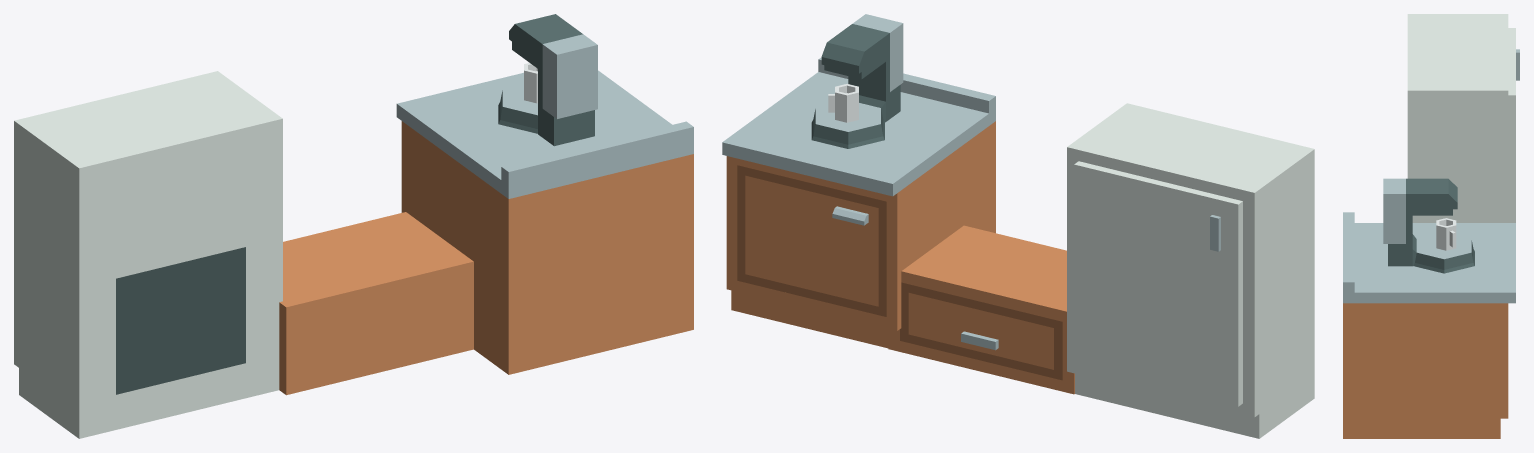
Rendered from 3KitchenObtsacleUpper.fbx.
3 renders of one model, left to right at view 1: azimuth 30°, elevation 25°; view 2: azimuth 150°, elevation 25°; view 3: azimuth 270°, elevation 25°, orthographic. The views are drawn at different scales.
Visible parts, largest first — view 1: kitchenFridgeSmall, kitchenCabinet, kitchenCabinetUpperLow, kitchenCoffeeMachine; view 2: kitchenFridgeSmall, kitchenCabinet, kitchenCabinetUpperLow, kitchenCoffeeMachine; view 3: kitchenCabinet, kitchenFridgeSmall, kitchenCoffeeMachine.
Part boxes in pixels (x1,y1,x2,y2): kitchenFridgeSmall: (14, 71, 282, 438); kitchenCabinet: (396, 70, 693, 374); kitchenCabinetUpperLow: (279, 212, 473, 395); kitchenCoffeeMachine: (498, 14, 597, 146); kitchenFridgeSmall: (1067, 103, 1314, 438); kitchenCabinet: (722, 57, 995, 348); kitchenCabinetUpperLow: (888, 225, 1074, 394); kitchenCoffeeMachine: (811, 14, 903, 148); kitchenCabinet: (1343, 212, 1515, 438); kitchenFridgeSmall: (1407, 14, 1519, 222); kitchenCoffeeMachine: (1383, 178, 1474, 273).
Bounding box in the file's own units: 26.6 × 12.55 × 9.2.
